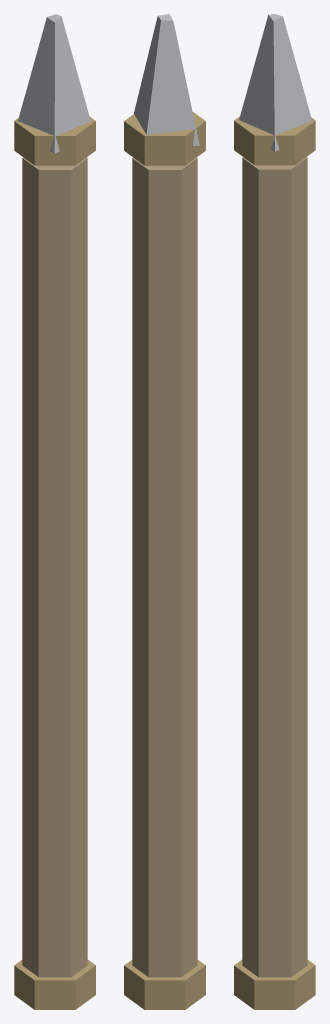
File: spear.glb
3 renders of one model, left to right at view 1: azimuth 90°, elevation 25°; view 2: azimuth 150°, elevation 25°; view 3: azimuth 270°, elevation 25°, orthographic.
Parts seen in each view (by area): view 1: spear; view 2: spear; view 3: spear.
Part boxes in pixels (x1,y1,x2,y2): spear: (14,14,95,1009); spear: (124,14,205,1009); spear: (234,14,315,1009).
Bounding box in the file's own units: 0.0981 × 1.32 × 0.1002.
